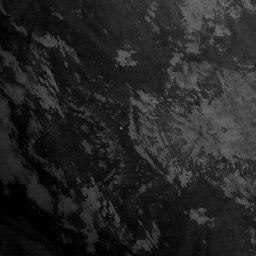Target: (118, 124, 123, 130)
